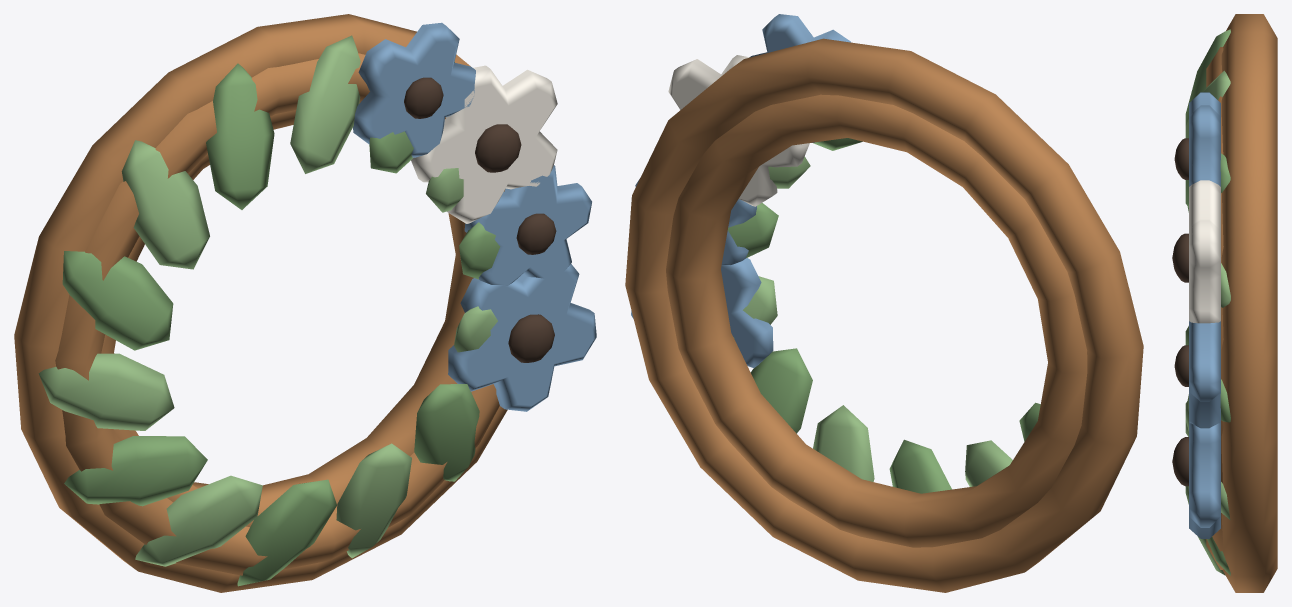
File: cool_windflower_wreath.glb
The picture shows the model from 3 angles, left to right: view 1: azimuth 30°, elevation 25°; view 2: azimuth 150°, elevation 25°; view 3: azimuth 270°, elevation 25°; orthographic projection. The views are drawn at different scales.
Visible parts, largest first — view 1: cool_windflower_wreath_mesh; view 2: cool_windflower_wreath_mesh; view 3: cool_windflower_wreath_mesh.
Part boxes in pixels (<box>): cool_windflower_wreath_mesh: <box>14,14,596,592</box>; cool_windflower_wreath_mesh: <box>625,14,1143,592</box>; cool_windflower_wreath_mesh: <box>1172,14,1277,592</box>.
Size of the model in its own units: 0.4714 by 0.4528 by 0.0827.
